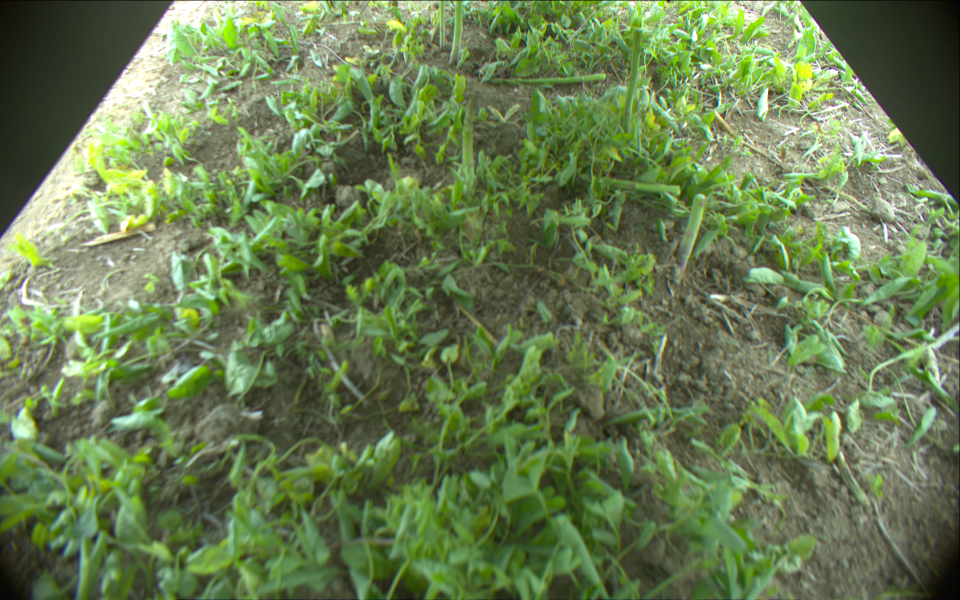aspa: (678, 193, 707, 268), (586, 175, 681, 195), (460, 92, 478, 192), (626, 26, 643, 131), (447, 1, 466, 65), (475, 75, 607, 83), (438, 1, 445, 50)
